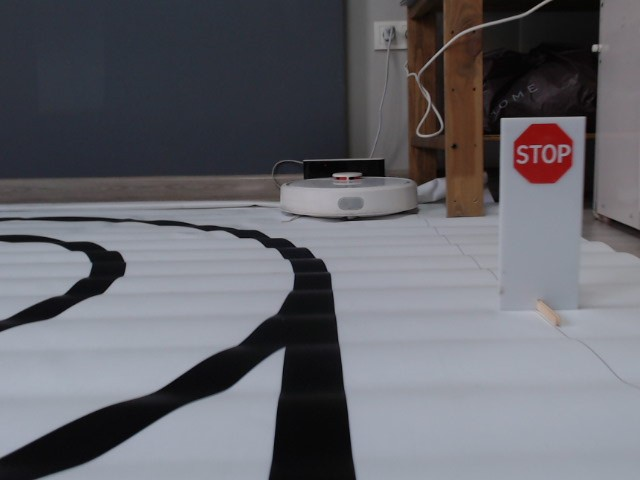Stop: (511, 122, 574, 184)
